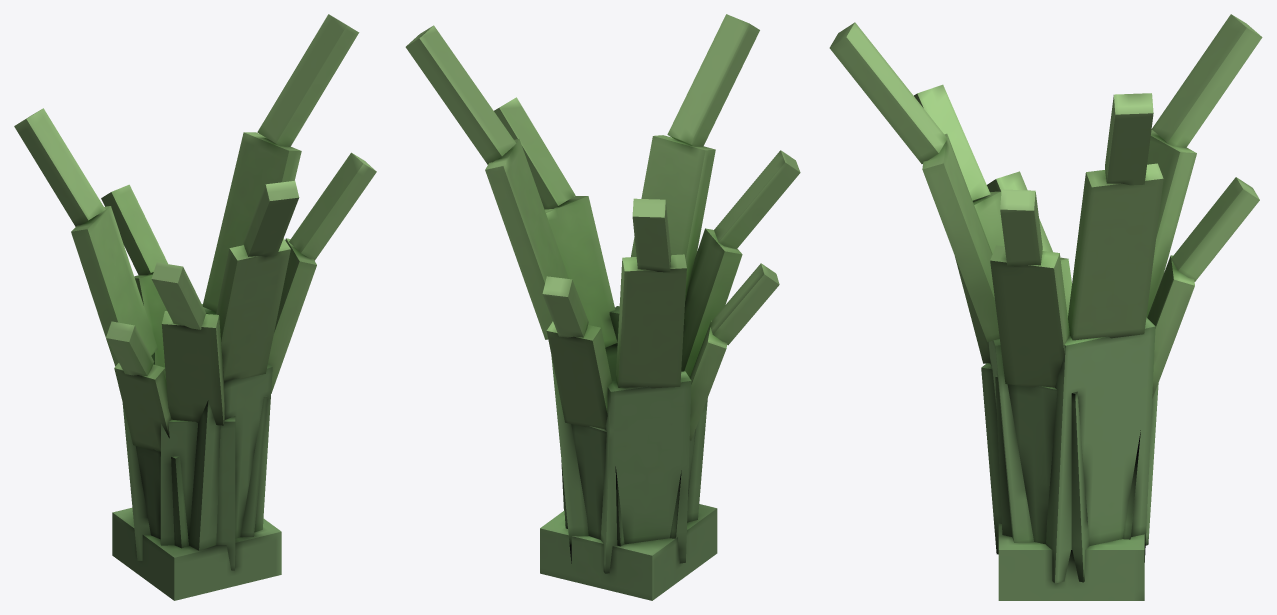
File: grasstuft.glb
3 renders of one model, left to right at view 1: azimuth 30°, elevation 25°; view 2: azimuth 150°, elevation 25°; view 3: azimuth 270°, elevation 25°, orthographic. The views are drawn at different scales.
Parts seen in each view (by area): view 1: grasstuft; view 2: grasstuft; view 3: grasstuft.
Part boxes in pixels (box(x1,y1,x2,y2)): grasstuft: box(14, 14, 376, 600); grasstuft: box(405, 14, 800, 600); grasstuft: box(829, 14, 1262, 600).
Bounding box in the file's own units: 0.3617 × 0.5626 × 0.386.
Materials: 2 (2 with a texture image).
